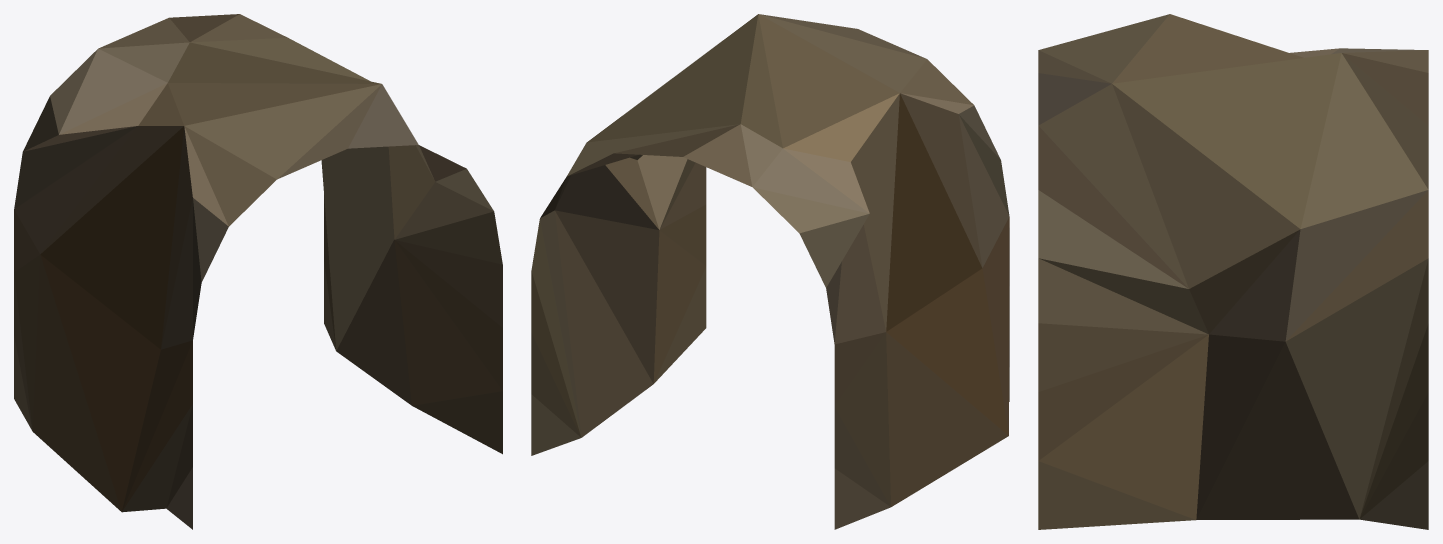
File: Cave-Hall5mD.fbx
The picture shows the model from 3 angles, left to right: view 1: azimuth 30°, elevation 25°; view 2: azimuth 150°, elevation 25°; view 3: azimuth 270°, elevation 25°; orthographic projection. The views are drawn at different scales.
Parts seen in each view (by area): view 1: Cave-Hall5mD; view 2: Cave-Hall5mD; view 3: Cave-Hall5mD.
Boxes of the visible parts, x1,y1,x2,y2 form: Cave-Hall5mD: (14,14,502,529); Cave-Hall5mD: (531,14,1009,529); Cave-Hall5mD: (1038,14,1428,529).
Size of the model in its own units: 624 by 566 by 500.
